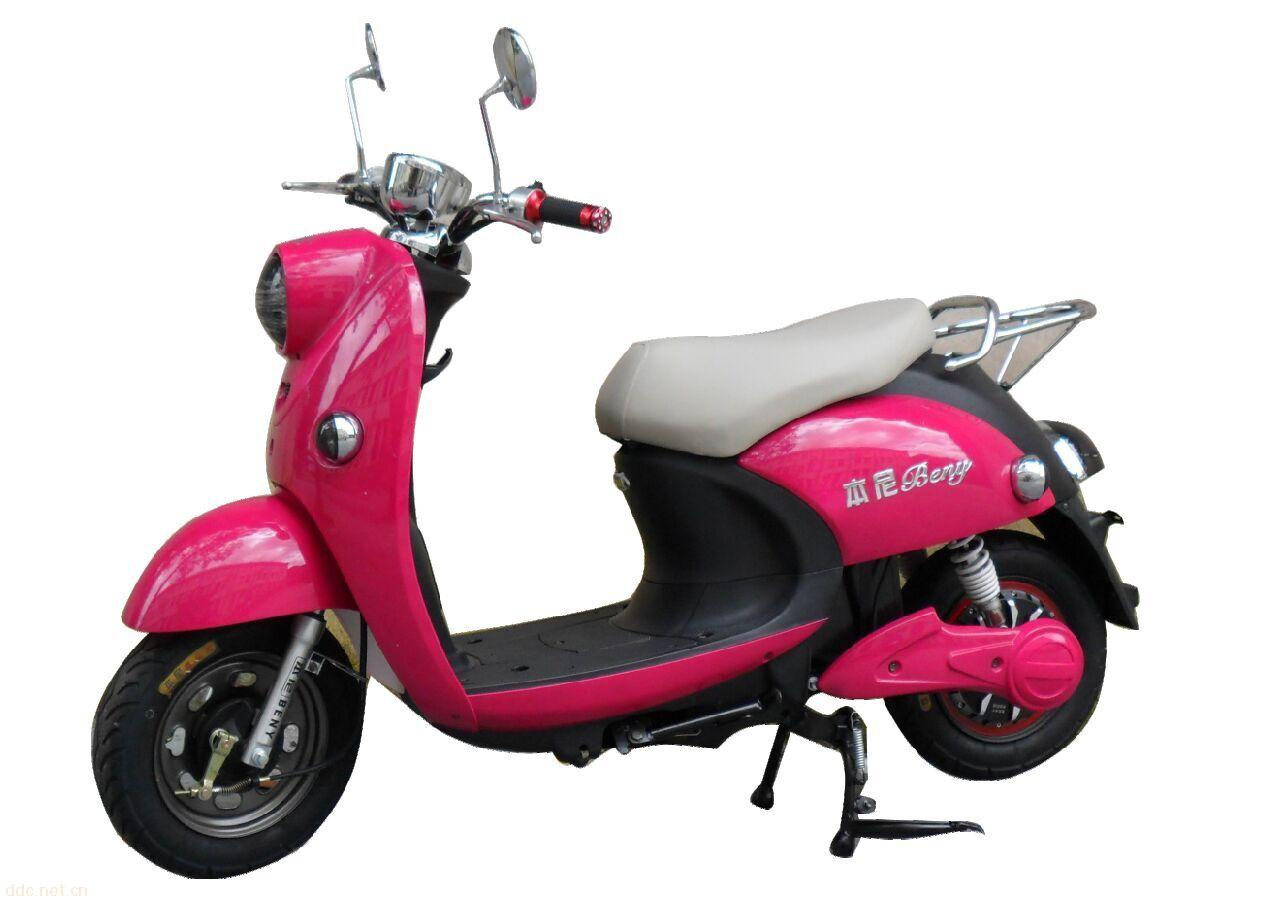MNV: (90, 54, 1134, 883)
